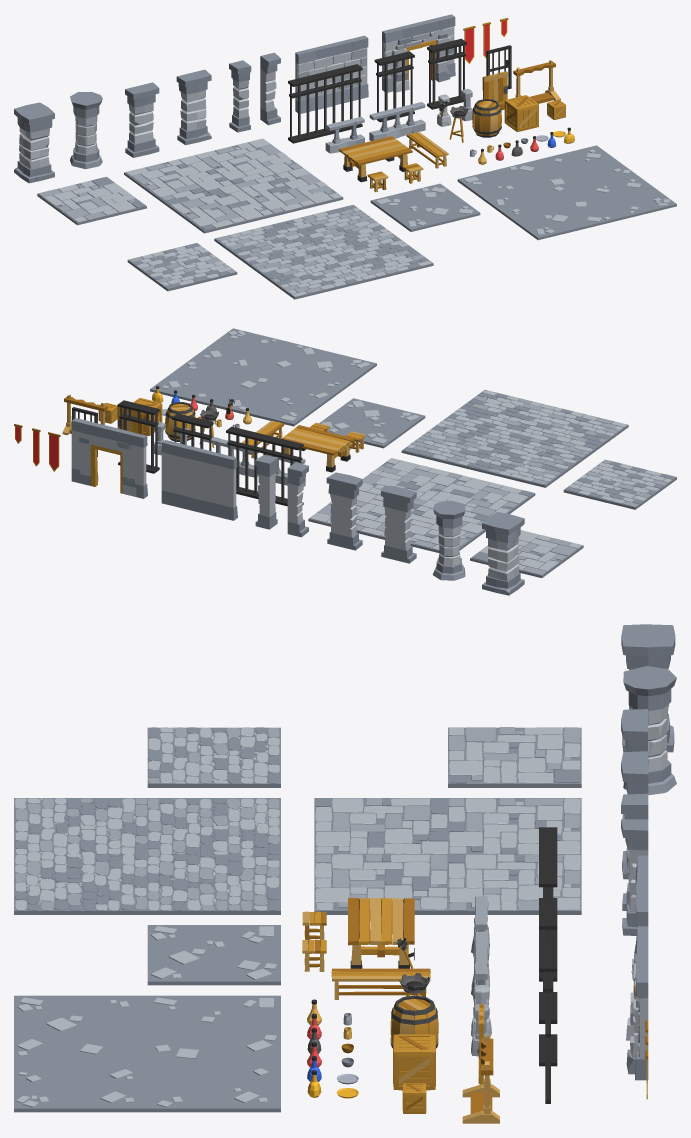
File: Dungeon.fbx
The picture shows the model from 3 angles, top to bottom: view 1: azimuth 30°, elevation 25°; view 2: azimuth 150°, elevation 25°; view 3: azimuth 270°, elevation 25°; orthographic projection. The views are drawn at different scales.
Parts seen in each view (by area): view 1: Dungeon_Floor1_Large, Dungeon_Floor2_Large, Dungeon_Floor3_Large, Dungeon_Wall, Dungeon_Doorway, Dungeon_Floor1_Small, Dungeon_Floor3_Small, Dungeon_Floor2_Small, Dungeon_JailbarLarge, Dungeon_Pillar_Large, Dungeon_Pillar_Small2, Dungeon_Pillar_Small1 (+14 smaller); view 2: Dungeon_Floor3_Large, Dungeon_Floor2_Large, Dungeon_Floor1_Large, Dungeon_Wall, Dungeon_Doorway, Dungeon_Floor3_Small, Dungeon_Floor2_Small, Dungeon_Pillar_Large, Dungeon_Floor1_Small, Dungeon_JailbarLarge, Dungeon_Pillar_Small2, Dungeon_Pillar_Small1 (+10 smaller); view 3: Dungeon_Floor2_Large, Dungeon_Floor3_Large, Dungeon_Floor1_Large, Dungeon_Floor1_Small, Dungeon_Floor2_Small, Dungeon_Floor3_Small, Dungeon_Table, Dungeon_Pillar_Round, Dungeon_Doorway, Dungeon_Pillar_Large, Dungeon_BoxLarge, Dungeon_Bench (+12 smaller).
Part boxes in pixels (x1=…): Dungeon_Floor1_Large: x1=124, y1=138, x2=343, y2=233; Dungeon_Floor2_Large: x1=457, y1=145, x2=676, y2=240; Dungeon_Floor3_Large: x1=214, y1=204, x2=433, y2=299; Dungeon_Wall: x1=295, y1=35, x2=368, y2=113; Dungeon_Doorway: x1=382, y1=14, x2=455, y2=92; Dungeon_Floor1_Small: x1=37, y1=176, x2=146, y2=225; Dungeon_Floor3_Small: x1=127, y1=243, x2=237, y2=291; Dungeon_Floor2_Small: x1=370, y1=183, x2=480, y2=231; Dungeon_JailbarLarge: x1=288, y1=64, x2=362, y2=143; Dungeon_Pillar_Large: x1=14, y1=102, x2=54, y2=183; Dungeon_Pillar_Small2: x1=176, y1=69, x2=211, y2=145; Dungeon_Pillar_Small1: x1=125, y1=82, x2=159, y2=157; Dungeon_Floor3_Large: x1=401, y1=390, x2=628, y2=487; Dungeon_Floor2_Large: x1=150, y1=328, x2=376, y2=426; Dungeon_Floor1_Large: x1=308, y1=458, x2=535, y2=552; Dungeon_Wall: x1=161, y1=440, x2=237, y2=520; Dungeon_Doorway: x1=71, y1=418, x2=147, y2=498; Dungeon_Floor3_Small: x1=563, y1=459, x2=676, y2=509; Dungeon_Floor2_Small: x1=319, y1=398, x2=425, y2=448; Dungeon_Pillar_Large: x1=482, y1=512, x2=524, y2=595; Dungeon_Floor1_Small: x1=470, y1=530, x2=583, y2=577; Dungeon_JailbarLarge: x1=226, y1=426, x2=303, y2=506; Dungeon_Pillar_Small2: x1=326, y1=472, x2=362, y2=550; Dungeon_Pillar_Small1: x1=381, y1=485, x2=416, y2=563; Dungeon_Floor2_Large: x1=14, y1=995, x2=280, y2=1112; Dungeon_Floor3_Large: x1=14, y1=798, x2=280, y2=914; Dungeon_Floor1_Large: x1=314, y1=798, x2=581, y2=914; Dungeon_Floor1_Small: x1=448, y1=727, x2=581, y2=787; Dungeon_Floor2_Small: x1=147, y1=925, x2=280, y2=985; Dungeon_Floor3_Small: x1=147, y1=727, x2=280, y2=787; Dungeon_Table: x1=348, y1=898, x2=414, y2=968; Dungeon_Pillar_Round: x1=623, y1=666, x2=676, y2=795; Dungeon_Doorway: x1=626, y1=926, x2=648, y2=1080; Dungeon_Pillar_Large: x1=621, y1=624, x2=675, y2=752; Dungeon_BoxLarge: x1=393, y1=1034, x2=435, y2=1090; Dungeon_Bench: x1=331, y1=968, x2=430, y2=999.
Bounding box in the file's own units: 28.22 × 3.63 × 19.86.
